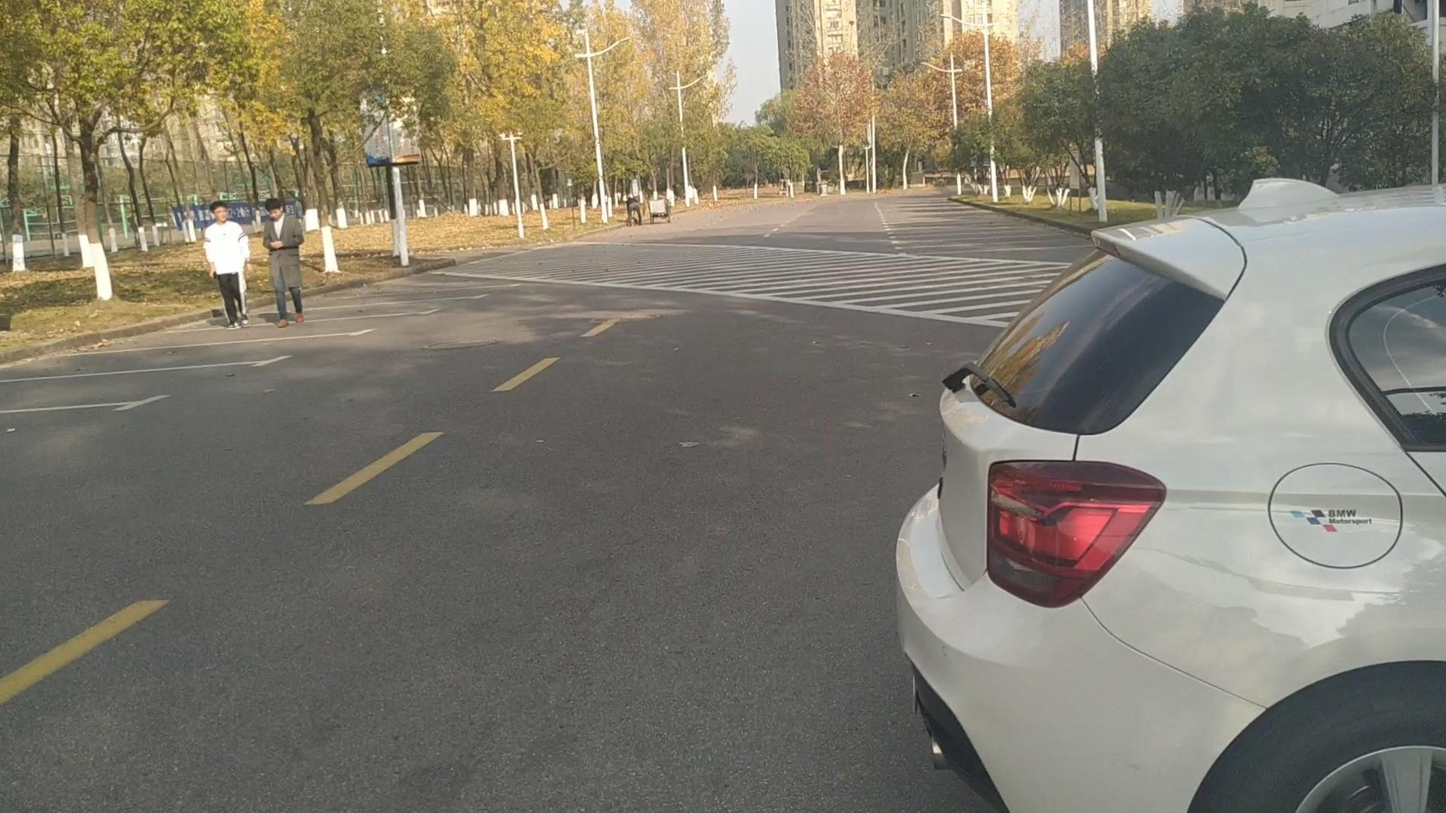car: (890, 184, 1444, 805)
